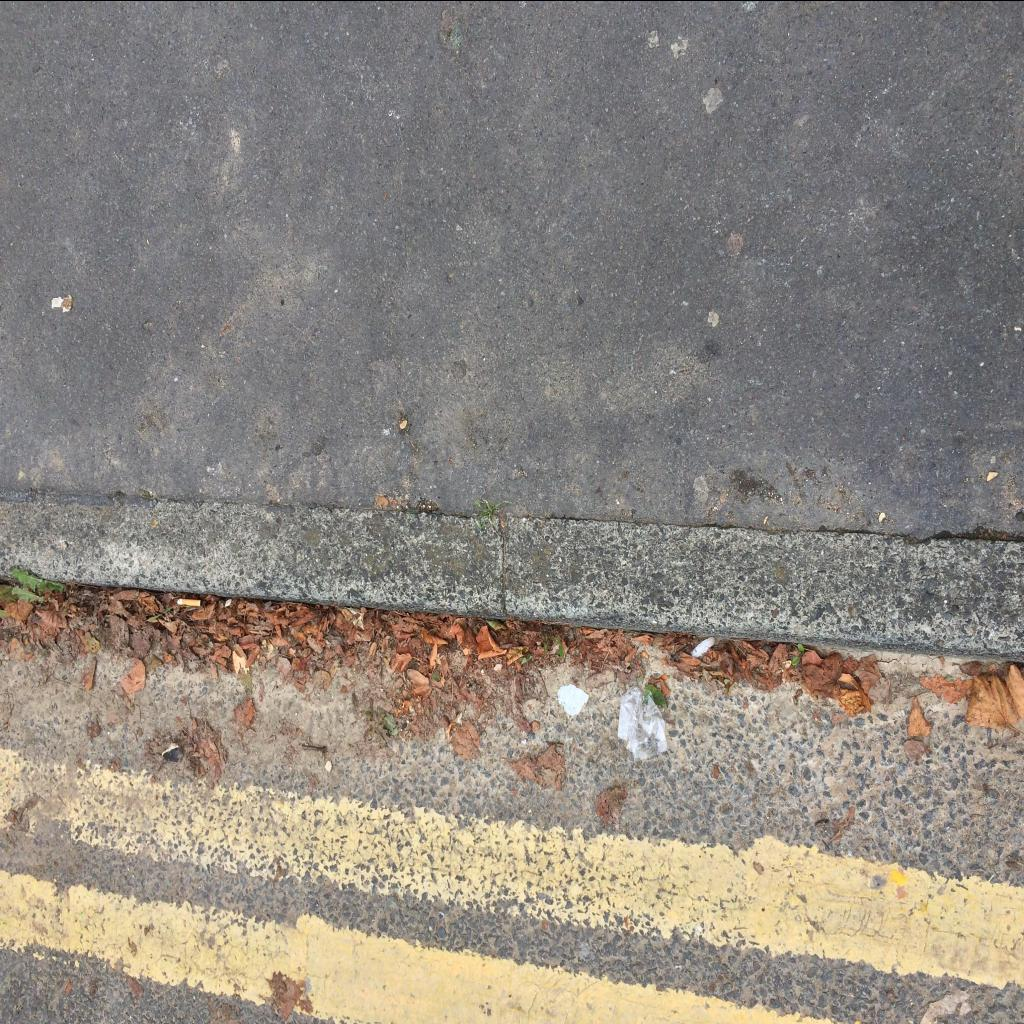Cigarette: (177, 598, 201, 606)
Plastic film: (618, 686, 666, 762)
Unlabeled litter: (558, 682, 589, 714)
